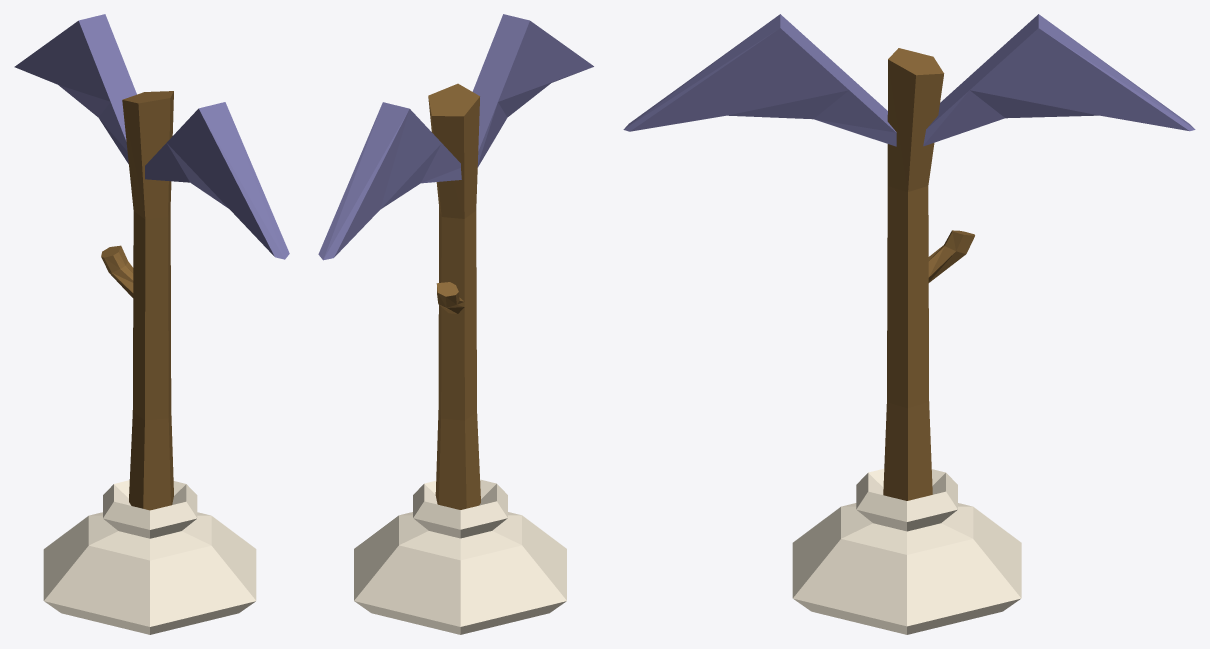
Rendered from Mop.obj.
The picture shows the model from 3 angles, left to right: view 1: azimuth 30°, elevation 25°; view 2: azimuth 150°, elevation 25°; view 3: azimuth 270°, elevation 25°; orthographic projection. The views are drawn at different scales.
Parts seen in each view (by area): view 1: Kegel, Zylinder, Würfel, Würfel.1; view 2: Kegel, Zylinder, Würfel.1, Würfel; view 3: Kegel, Zylinder, Würfel, Würfel.1.
Part boxes in pixels (x1=…): Kegel: x1=43, y1=480, x2=256, y2=634; Zylinder: x1=101, y1=91, x2=173, y2=510; Würfel: x1=145, y1=102, x2=289, y2=259; Würfel.1: x1=14, y1=14, x2=136, y2=164; Kegel: x1=354, y1=479, x2=566, y2=634; Zylinder: x1=428, y1=83, x2=480, y2=509; Würfel.1: x1=318, y1=102, x2=461, y2=260; Würfel: x1=472, y1=14, x2=593, y2=167; Kegel: x1=792, y1=468, x2=1021, y2=634; Zylinder: x1=883, y1=48, x2=974, y2=500; Würfel: x1=623, y1=14, x2=896, y2=146; Würfel.1: x1=923, y1=14, x2=1195, y2=146.
Bounding box in the file's own units: 4.75 × 11.3 × 10.3.
